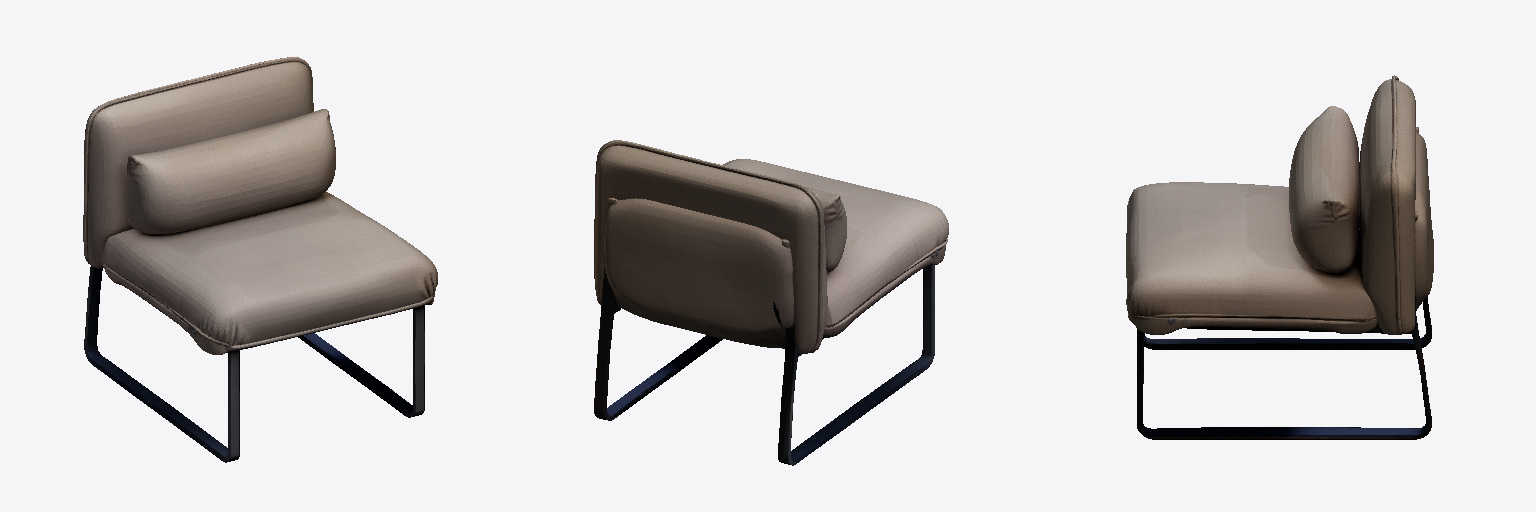
The picture shows the model from 3 angles: view 1: azimuth 30°, elevation 25°; view 2: azimuth 150°, elevation 25°; view 3: azimuth 270°, elevation 25°; orthographic projection.
Parts seen in each view (by area): view 1: geometry_0; view 2: geometry_0; view 3: geometry_0.
Boxes of the visible parts, x1,y1,x2,y2 form: geometry_0: [83, 57, 437, 462]; geometry_0: [594, 140, 948, 465]; geometry_0: [1126, 75, 1433, 439].
Bounding box in the file's own units: 0.8691 × 0.9749 × 0.9981.
Materials: 1 (1 with a texture image).